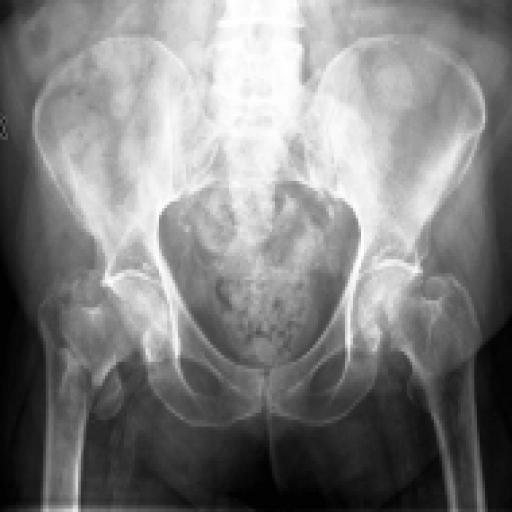intertrochanteric: (48, 269, 167, 391), (37, 293, 94, 499)
lesser-trochanter: (95, 368, 125, 421)
normal: (357, 260, 483, 480)
